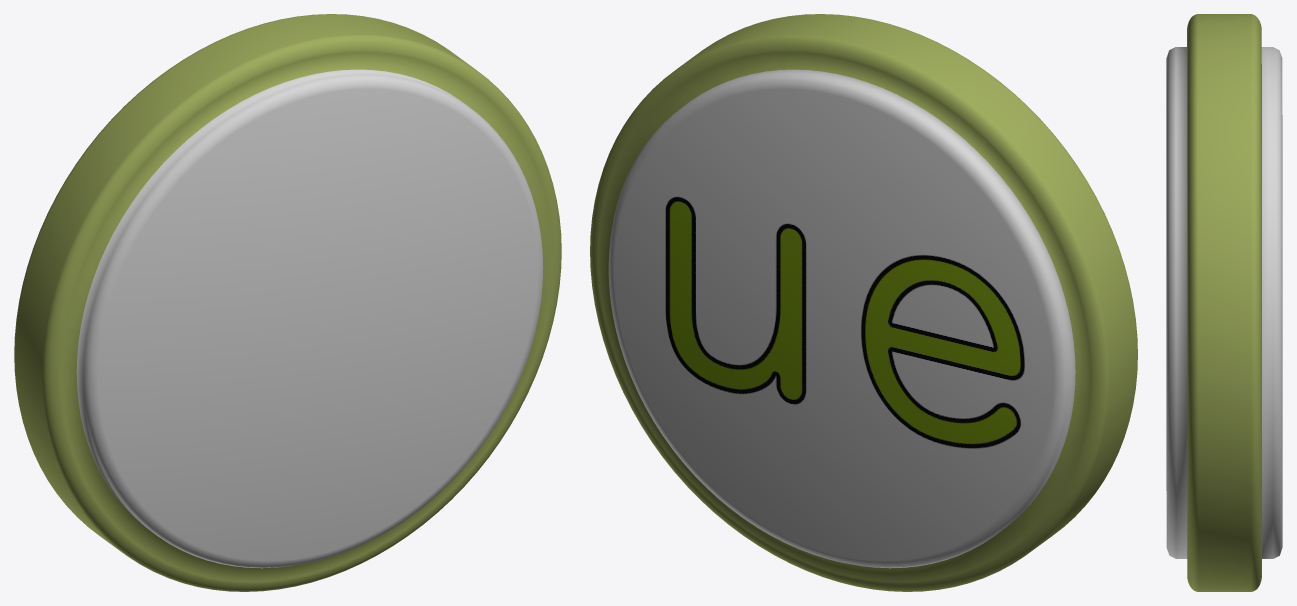
The model's file is statue.gltf.
3 renders of one model, left to right at view 1: azimuth 30°, elevation 25°; view 2: azimuth 150°, elevation 25°; view 3: azimuth 270°, elevation 25°, orthographic. The views are drawn at different scales.
Visible parts, largest first — view 1: coin; view 2: coin; view 3: coin.
Boxes of the visible parts, left/top/right/bottom form: coin: left=14, top=14, right=561, bottom=591; coin: left=590, top=14, right=1137, bottom=591; coin: left=1166, top=14, right=1282, bottom=591.
Size of what is drawn, in the model's own units: 2.56 by 2.56 by 0.5145.
3 materials, 1 textured.
